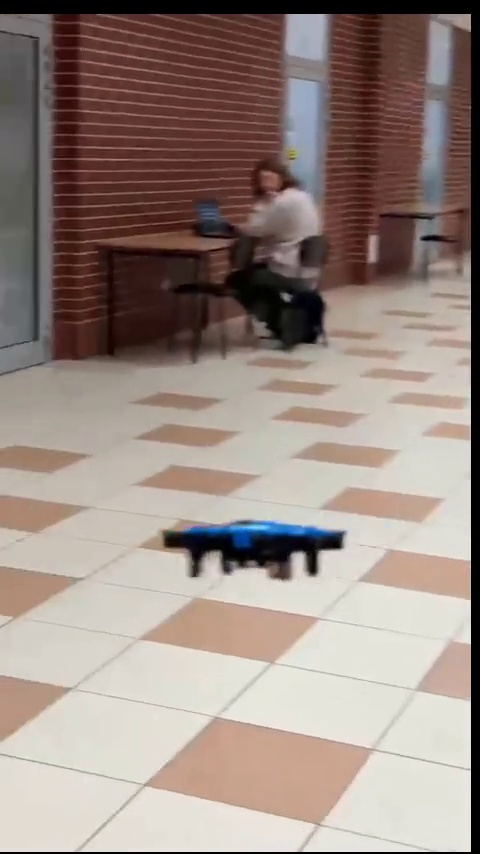drone: (162, 518, 347, 580)
no vest: (229, 155, 331, 341)
